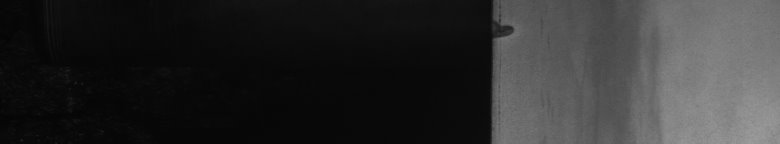hb: (504, 19, 520, 44)
